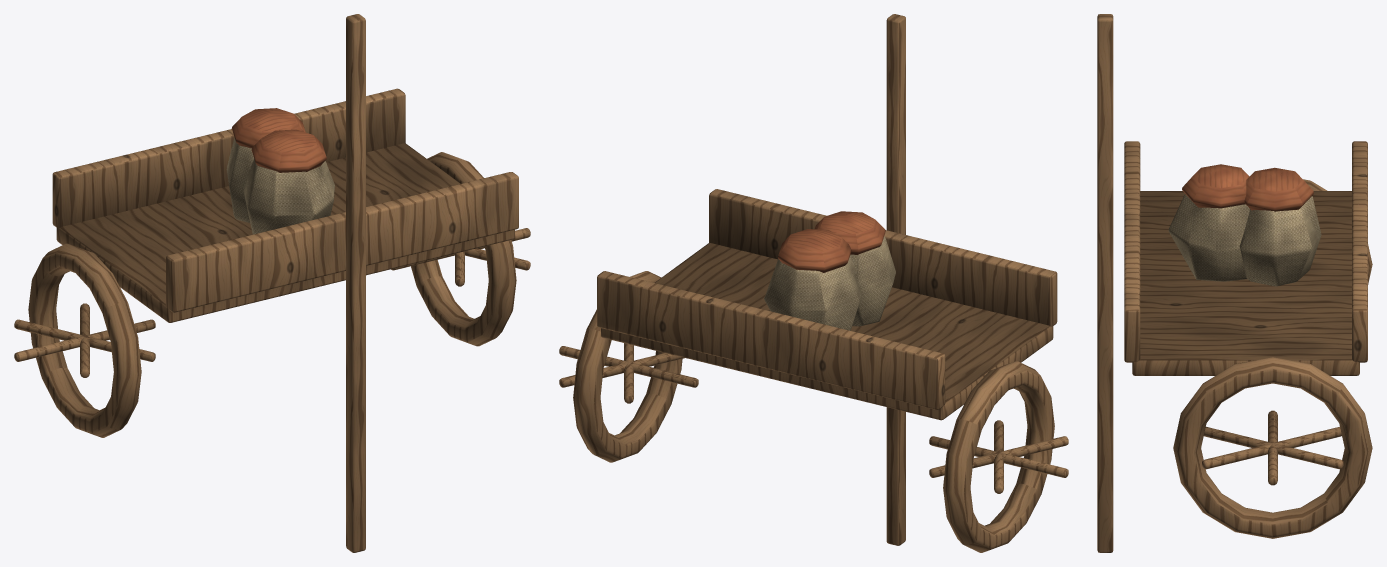
The model's file is barrow_grain.glb.
The picture shows the model from 3 angles, left to right: view 1: azimuth 30°, elevation 25°; view 2: azimuth 150°, elevation 25°; view 3: azimuth 270°, elevation 25°; orthographic projection.
Parts seen in each view (by area): view 1: barrow_grain; view 2: barrow_grain; view 3: barrow_grain.
Boxes of the visible parts, <box> form: barrow_grain: <box>14,14,530,552</box>; barrow_grain: <box>559,14,1068,552</box>; barrow_grain: <box>1097,14,1372,552</box>.
Size of the model in its own units: 2.22 by 2.2 by 1.03.
3 materials, 3 textured.
